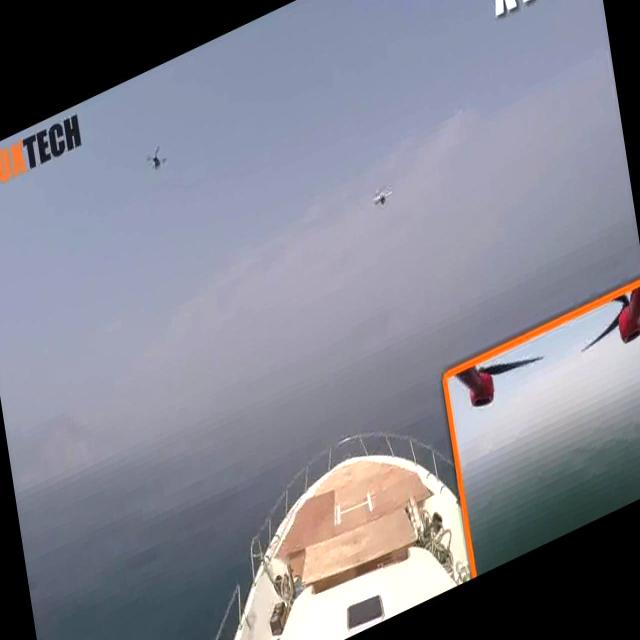drone: (367, 176, 398, 219), (142, 137, 172, 181)
